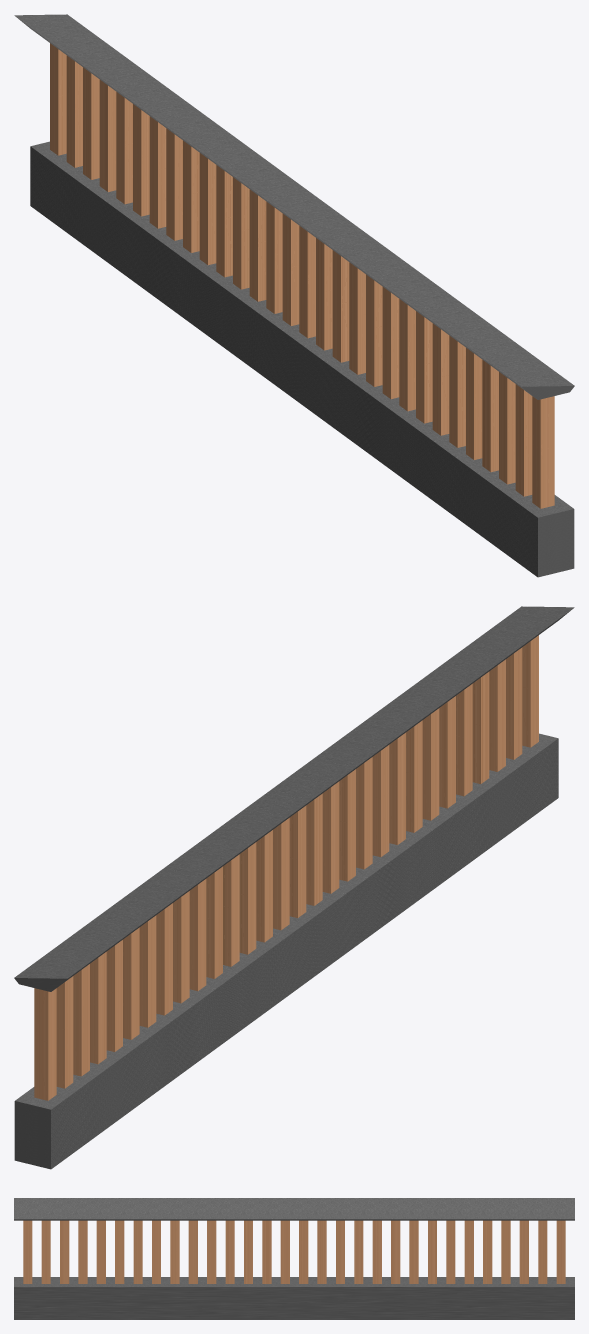
File: barierka_strzelnica.FBX
3 views of the same model, one above another, from view 1: azimuth 30°, elevation 25°; view 2: azimuth 150°, elevation 25°; view 3: azimuth 270°, elevation 25° (orthographic). The views are drawn at different scales.
Parts seen in each view (by area): view 1: Box1092; view 2: Box1092; view 3: Box1092.
Boxes of the visible parts, x1=… form: Box1092: x1=14, y1=14, x2=574, y2=577; Box1092: x1=14, y1=606, x2=574, y2=1169; Box1092: x1=14, y1=1198, x2=574, y2=1319.
Bounding box in the file's own units: 0.7856 × 2.73 × 12.9.
Materials: 2 (2 with a texture image).
